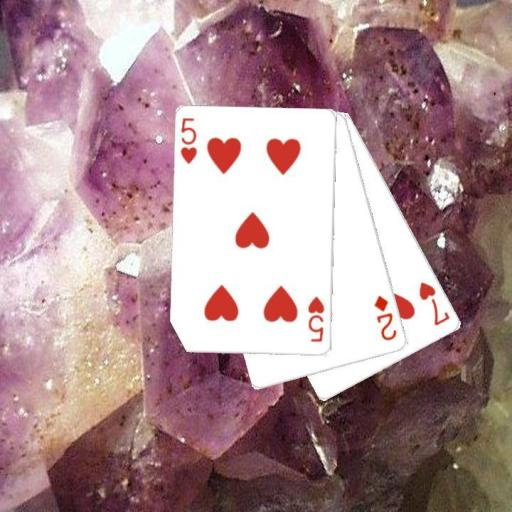2D: (371, 292, 399, 343)
5H: (178, 115, 199, 166), (305, 294, 326, 344)
7H: (416, 279, 452, 328)
